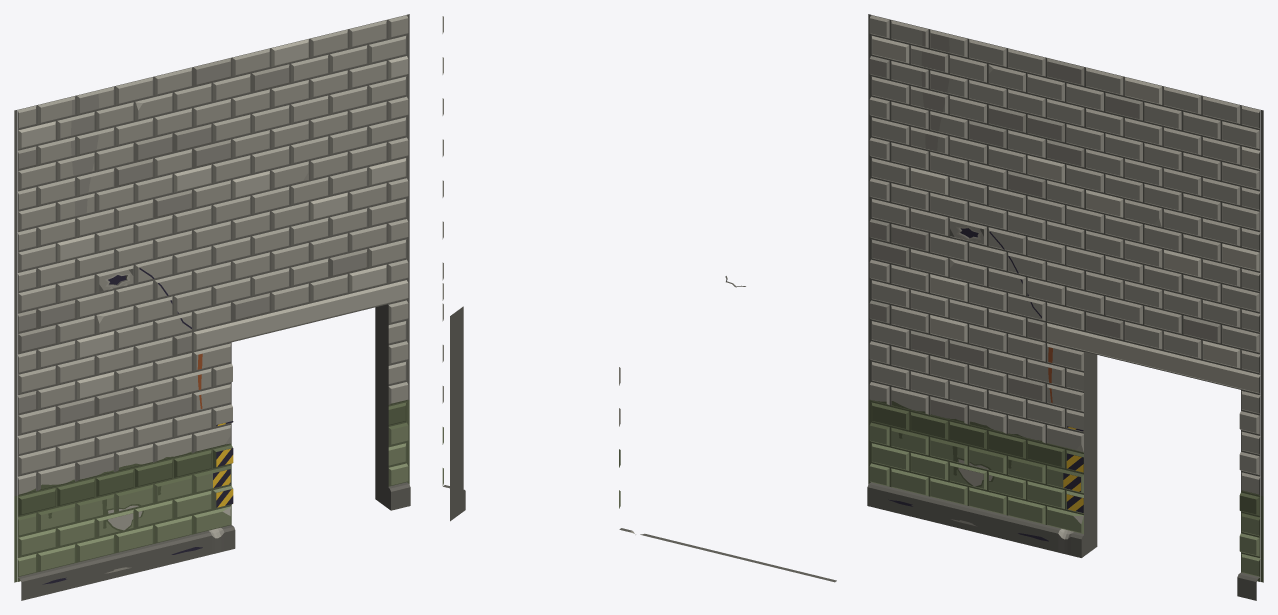
The model's file is wall_panel_doorway_b.glb.
3 renders of one model, left to right at view 1: azimuth 30°, elevation 25°; view 2: azimuth 150°, elevation 25°; view 3: azimuth 330°, elevation 25°, orthographic.
Parts seen in each view (by area): view 1: Wall; view 2: Wall; view 3: Wall.
Boxes of the visible parts, x1,y1,x2,y2 form: Wall: [14, 14, 410, 600]; Wall: [442, 16, 836, 582]; Wall: [867, 14, 1263, 600].
Size of the model in its own units: 5.08 by 6 by 0.3525.
